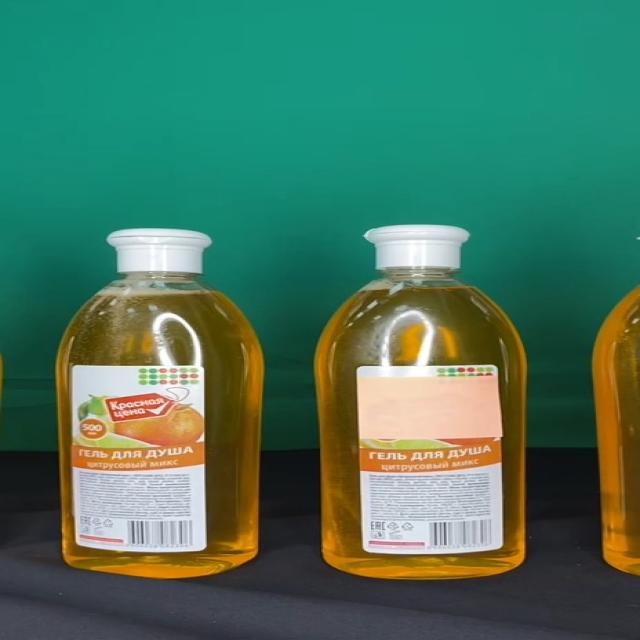Bottle: (314, 224, 529, 578), (54, 229, 266, 579)
Cap: (364, 225, 470, 269), (106, 229, 212, 272)
